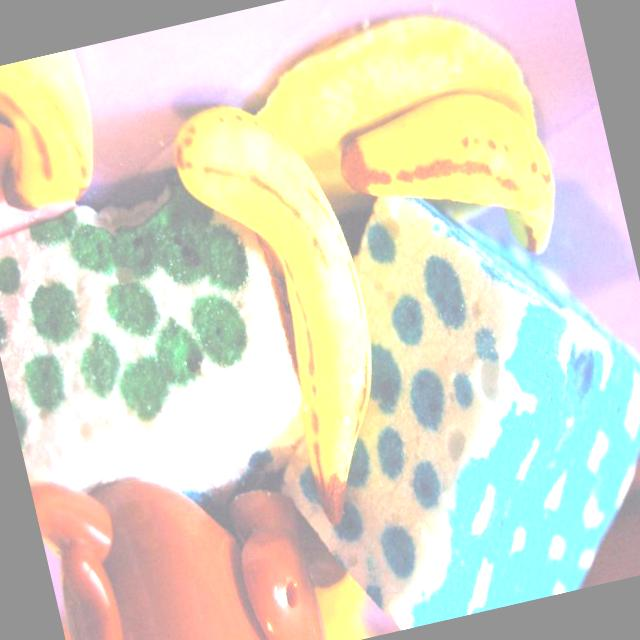Banana: (164, 82, 413, 543), (330, 75, 570, 294), (0, 48, 110, 224)
